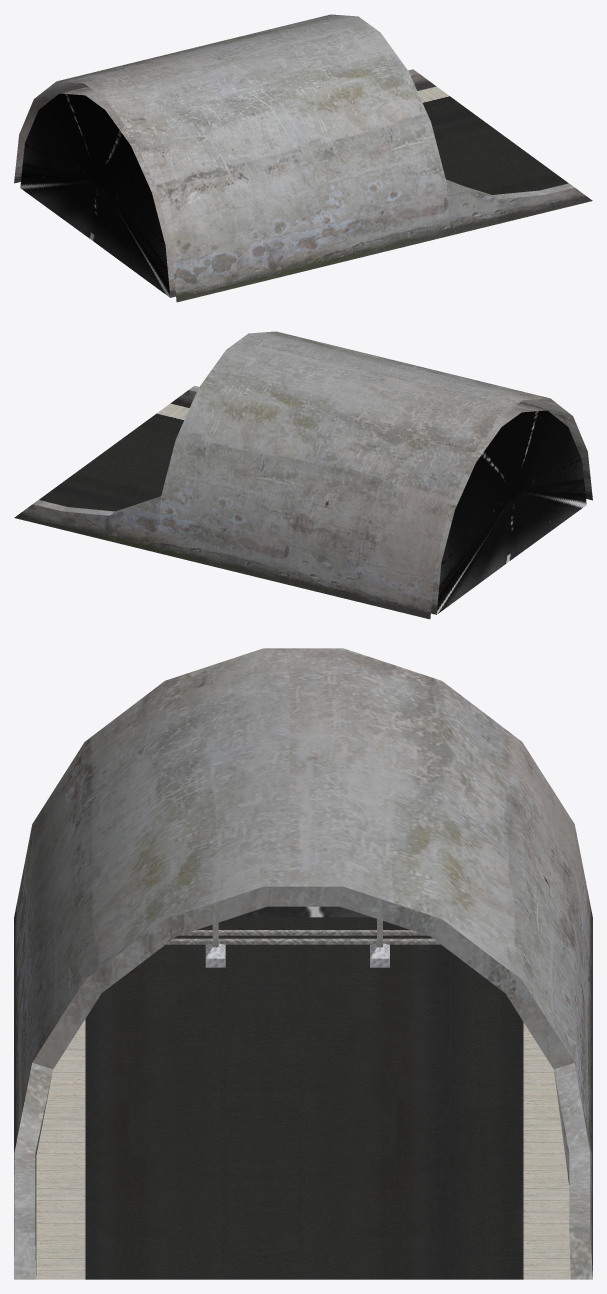
The model's file is Tunel_01_Mesh.FBX.
The picture shows the model from 3 angles, top to bottom: view 1: azimuth 30°, elevation 25°; view 2: azimuth 150°, elevation 25°; view 3: azimuth 270°, elevation 25°; orthographic projection. The views are drawn at different scales.
Parts seen in each view (by area): view 1: Tube001; view 2: Tube001; view 3: Tube001.
Boxes of the visible parts, x1=… form: Tube001: x1=14, y1=14, x2=592, y2=302; Tube001: x1=14, y1=331, x2=592, y2=619; Tube001: x1=14, y1=648, x2=592, y2=1279.
Size of the model in its own units: 1852 by 1253 by 644.
